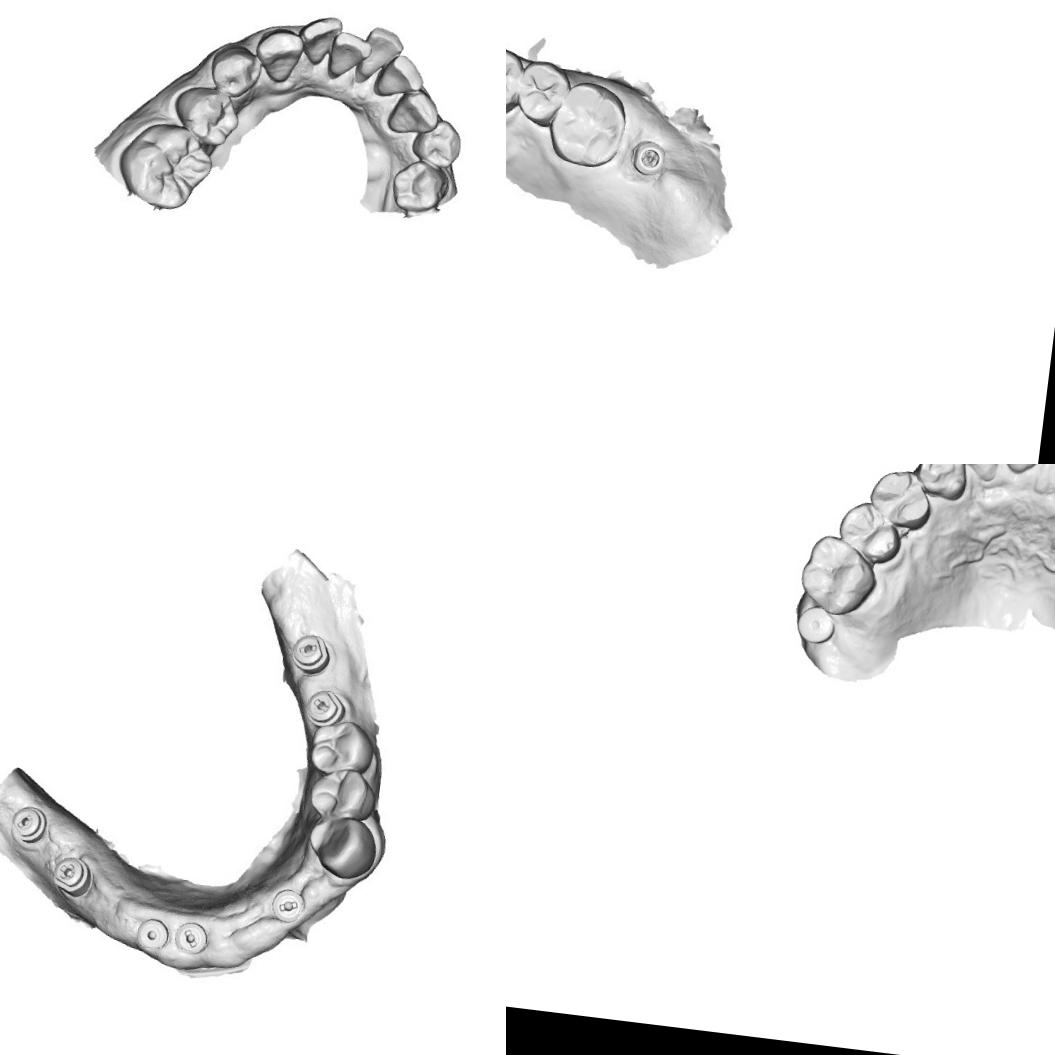canine: (312, 813, 378, 883), (254, 20, 307, 90), (384, 84, 442, 139), (912, 464, 972, 503)
implant: (626, 136, 671, 184), (793, 602, 837, 646), (133, 912, 172, 955)
implant_minus: (286, 627, 338, 684), (302, 684, 350, 733), (5, 800, 51, 845), (272, 887, 313, 933), (174, 922, 209, 960)
implant_plus: (51, 852, 92, 902)
incisor: (356, 29, 402, 81), (300, 10, 341, 68), (328, 34, 370, 82), (378, 57, 420, 97), (945, 464, 1006, 483)
molar: (796, 531, 882, 620), (122, 124, 211, 207), (549, 81, 627, 167)
premolar: (834, 498, 907, 567), (866, 465, 936, 532), (175, 82, 240, 146), (306, 721, 374, 780), (309, 768, 378, 824), (388, 159, 451, 218), (516, 61, 566, 122), (213, 46, 260, 98), (414, 118, 460, 164), (506, 46, 521, 110)
